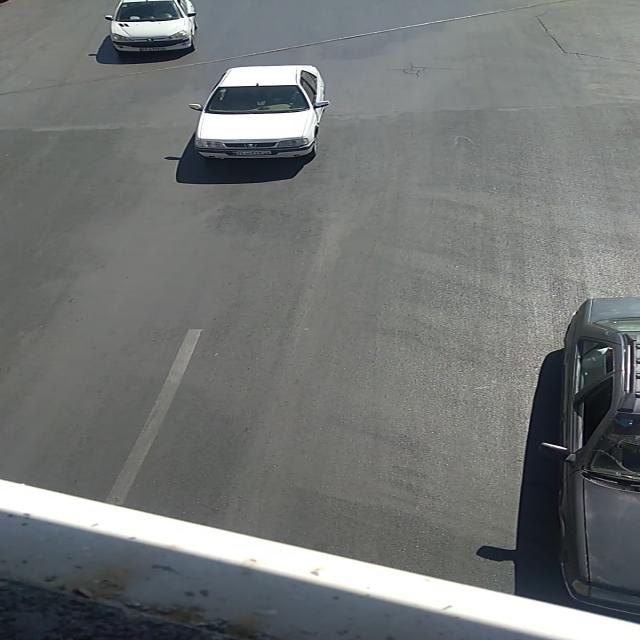car: (560, 294, 639, 613), (187, 65, 329, 159), (104, 2, 196, 50)
